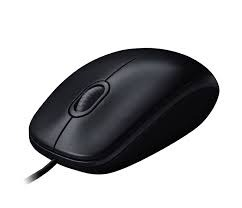mouse: (24, 41, 221, 189)
